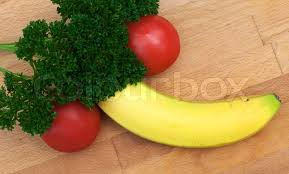banana: (103, 82, 284, 151)
tomato: (37, 100, 101, 154), (126, 14, 180, 76)
